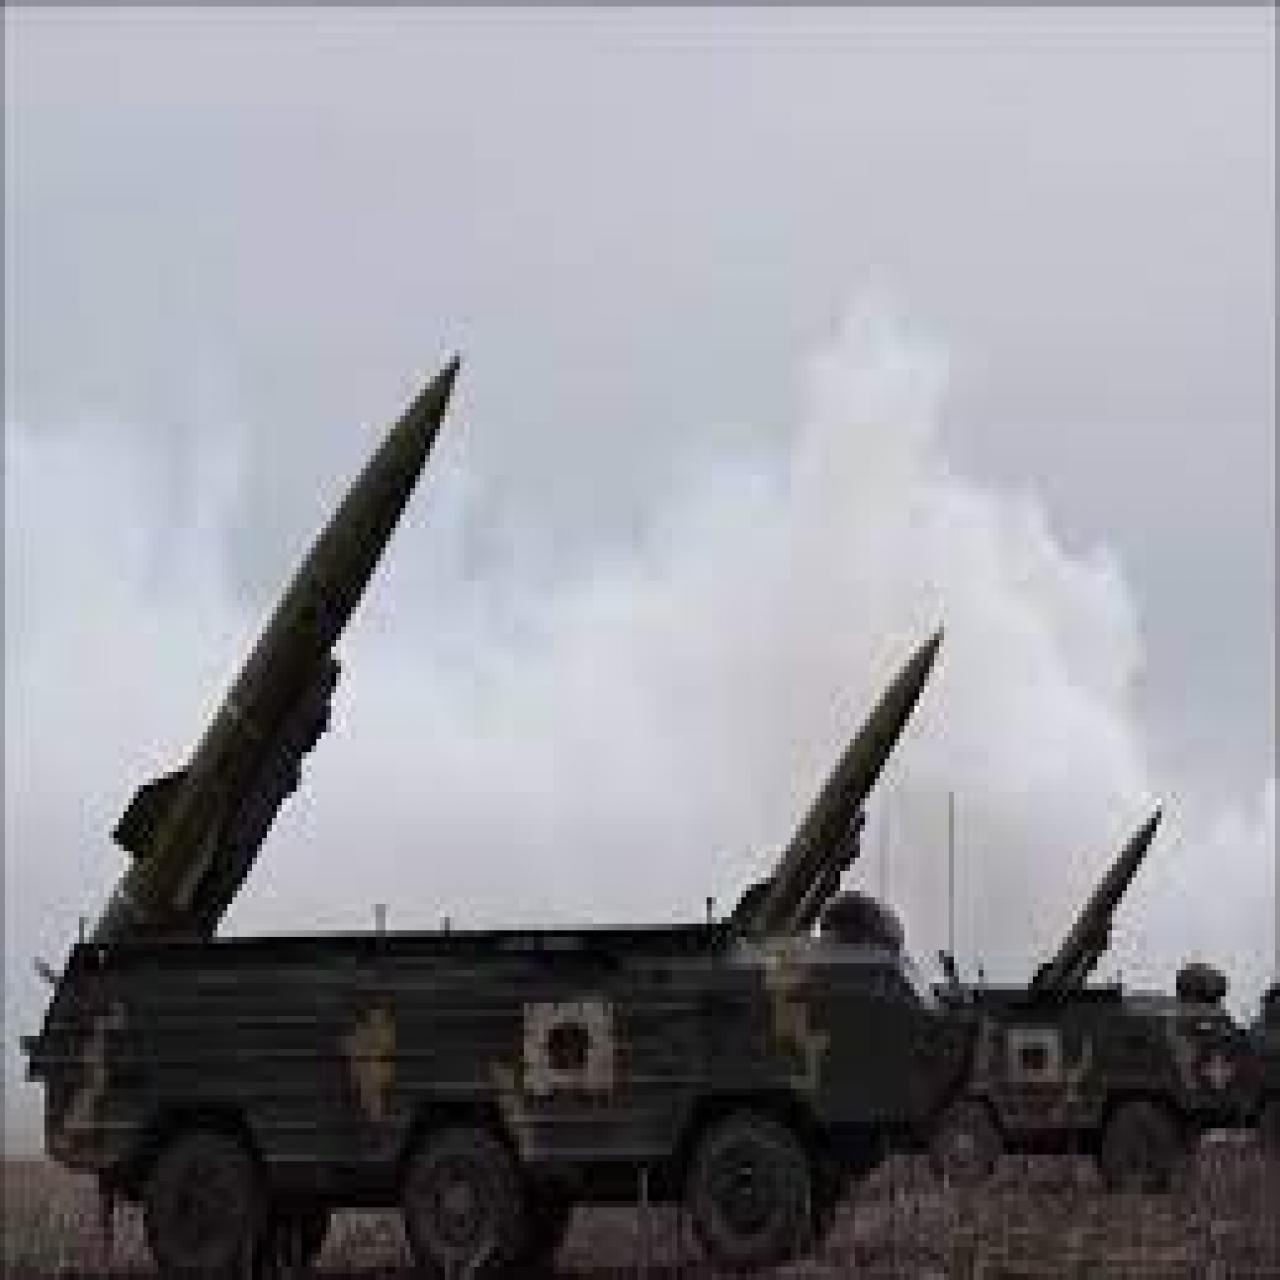MIL_Veh: (38, 349, 959, 1260), (942, 790, 1262, 1180)
